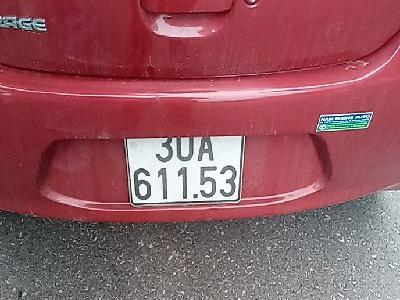lisence: (122, 135, 247, 206)
